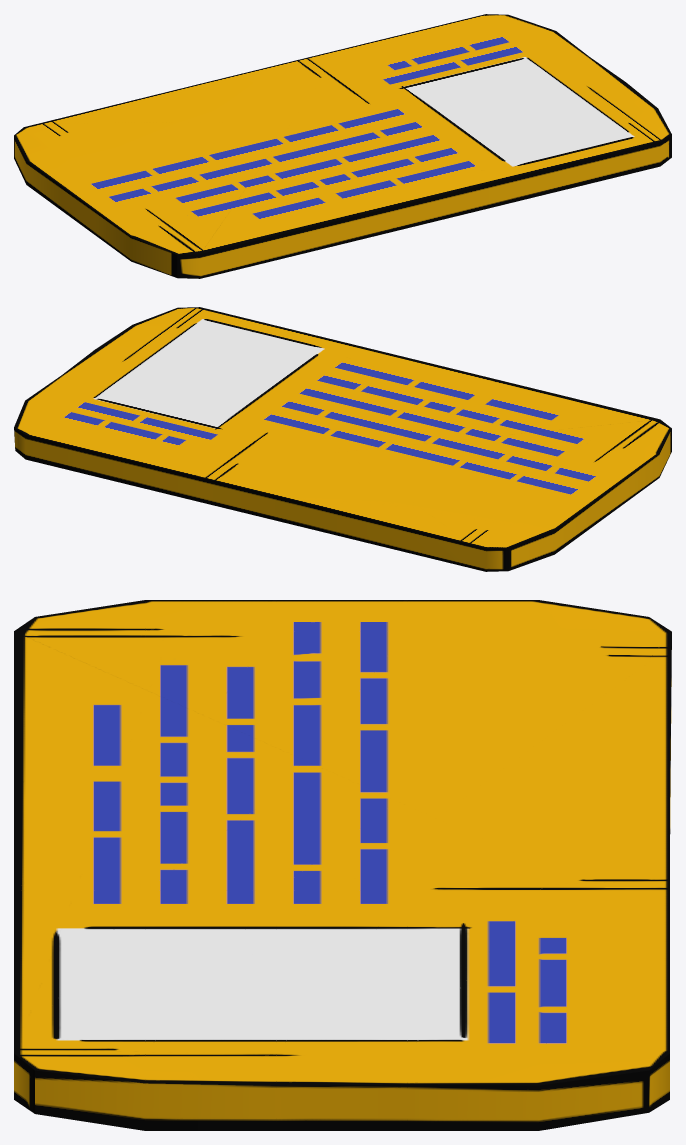
Rendered from keycard.fbx.
3 views of the same model, one above another, from view 1: azimuth 30°, elevation 25°; view 2: azimuth 150°, elevation 25°; view 3: azimuth 270°, elevation 25° (orthographic). The views are drawn at different scales.
Visible parts, largest first — view 1: keycard1; view 2: keycard1; view 3: keycard1.
Boxes of the visible parts, x1=… form: keycard1: x1=14, y1=14, x2=671, y2=278; keycard1: x1=14, y1=307, x2=671, y2=571; keycard1: x1=14, y1=600, x2=671, y2=1130.
Size of the model in its own units: 0.1754 by 0.00783 by 0.1004.
